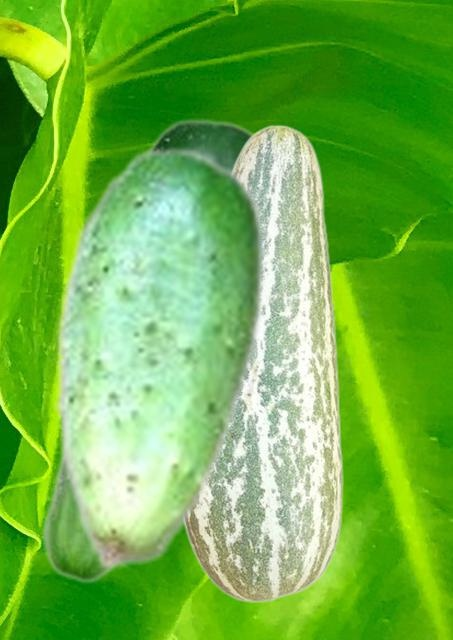cucumber: (39, 118, 254, 583), (54, 144, 264, 570), (183, 124, 343, 602)
